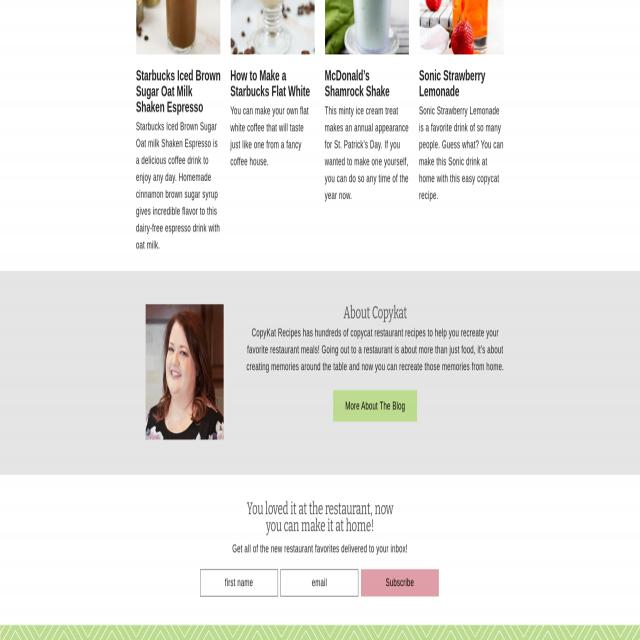button: (146, 304, 223, 440), (231, 0, 315, 56), (325, 0, 409, 56), (419, 0, 503, 56), (136, 0, 220, 55), (333, 390, 417, 422), (361, 570, 439, 596)
field: (200, 570, 278, 596), (280, 570, 358, 596)
